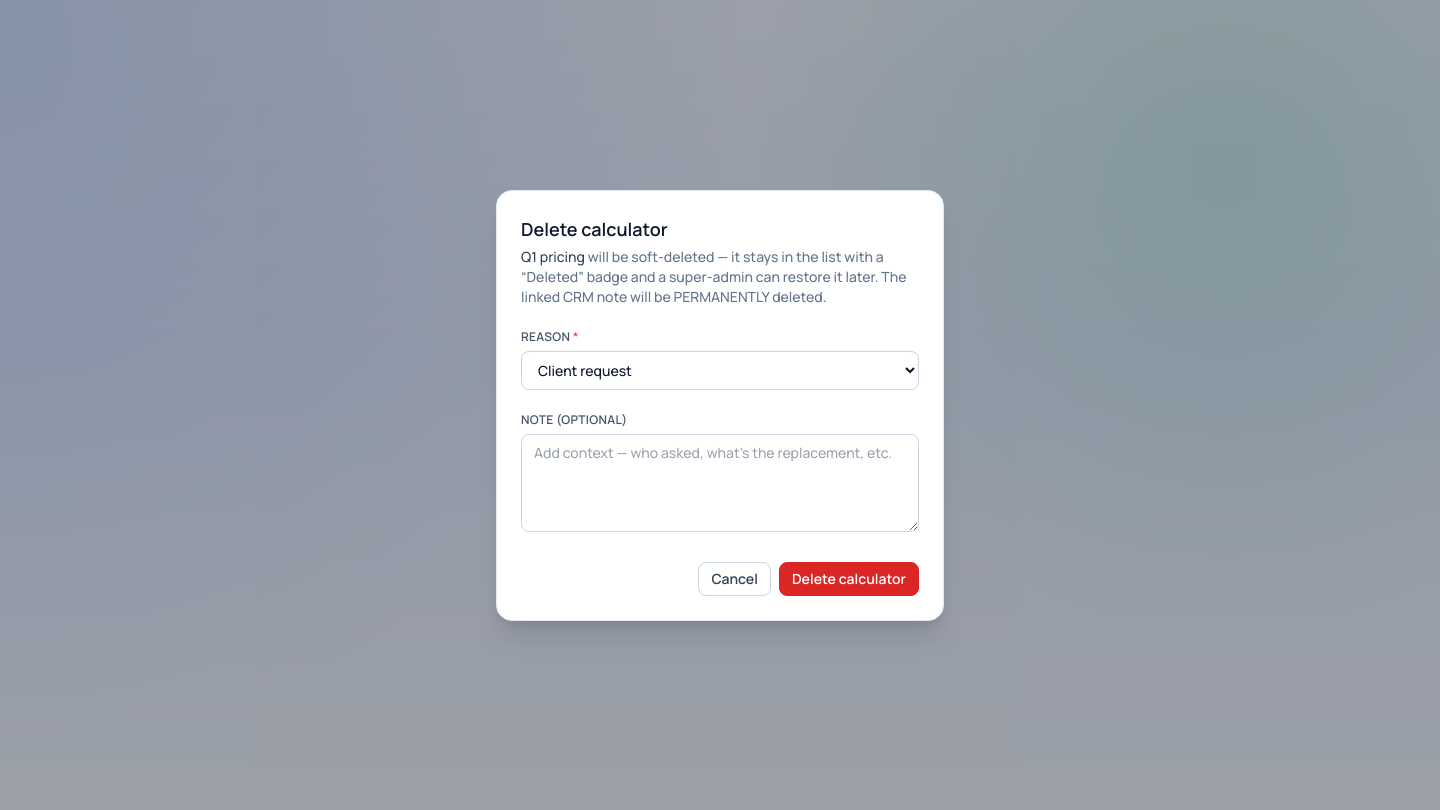
it: DeleteCalculatorModal — submit flow › rejects 'other' reason without note (client-side guard)
The width and height of the screenshot is (1440, 810).
Select "Other (note required)" in the dropdown labelled "Reason *": point(720, 370) [521,350,919,390]
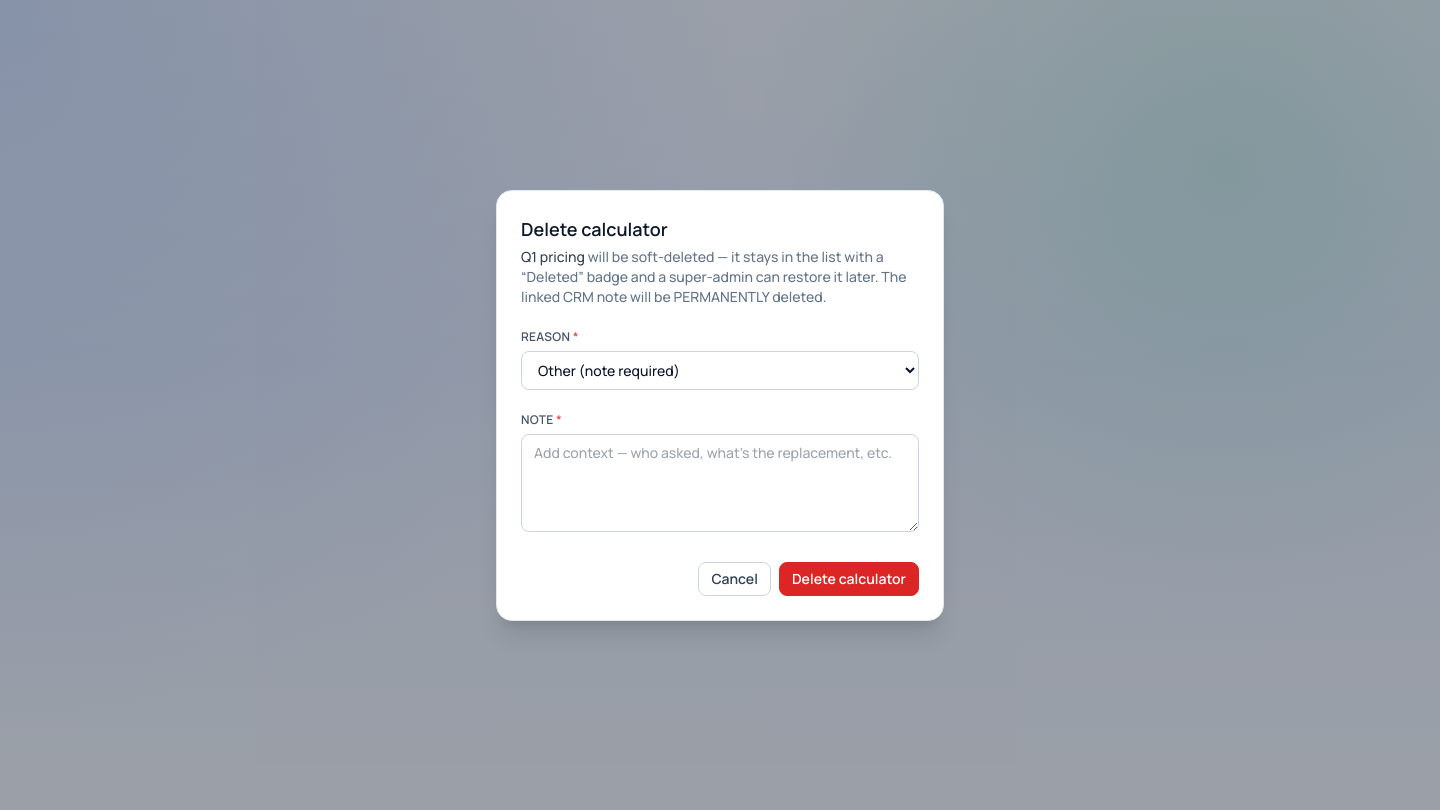
Click the button "Delete calculator": point(849, 578) [779,562,919,596]
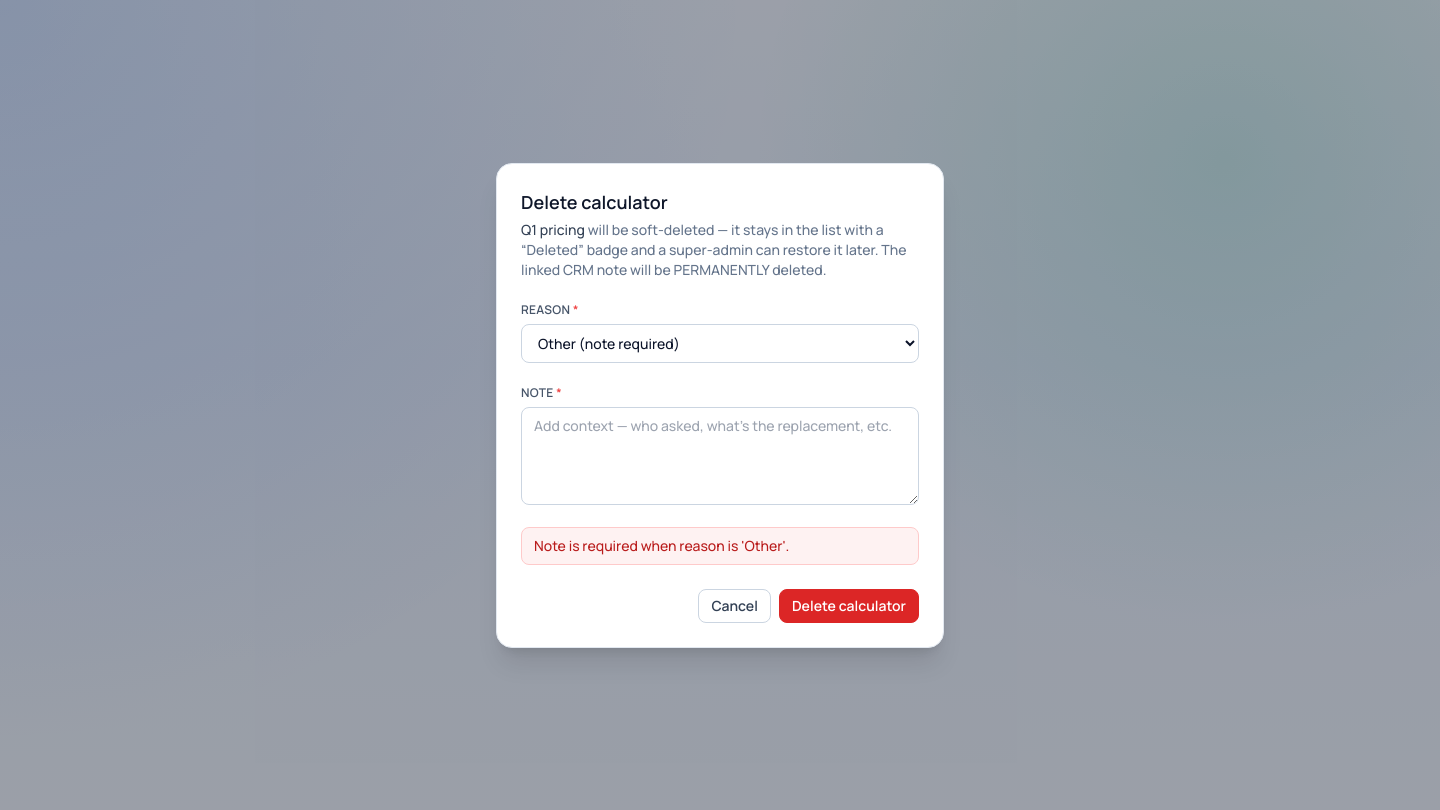
Expected: the text "Note is required when reason is 'Other'." is shown, [521,526,919,564]
